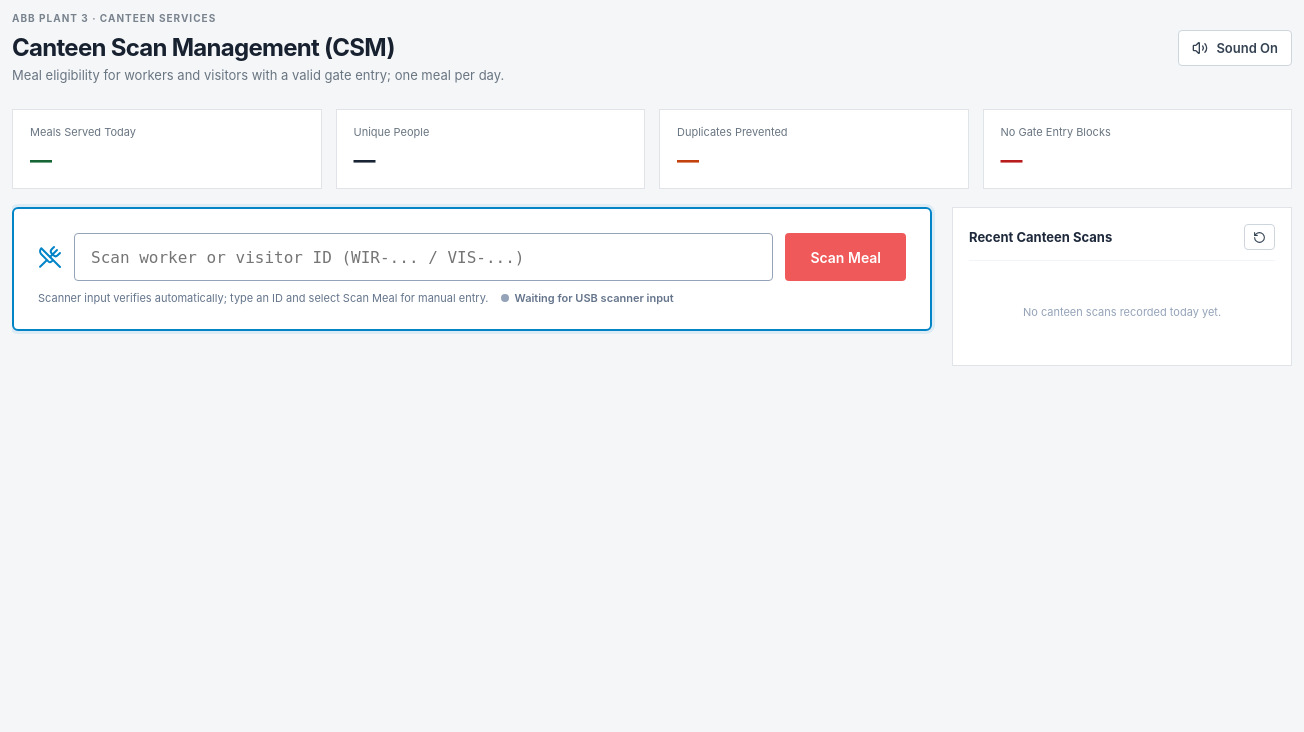
barcode scanner input › submits canteen scans when a keyboard scanner sends Enter
Type "vis-test" into the field with placeholder "Scan worker or visitor ID (WIR-... / VIS-...)". click: coordinates (424, 257)
box: [74, 233, 773, 281]
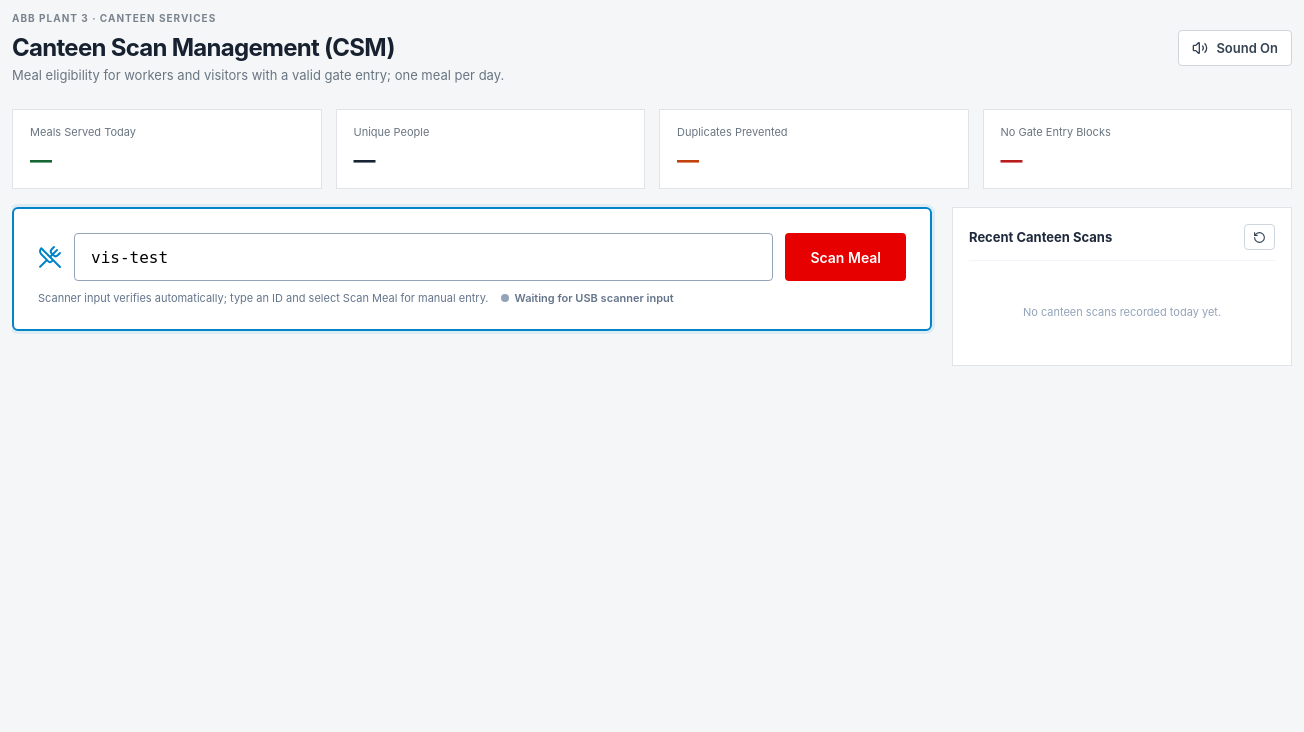
Press Enter in the field with placeholder "Scan worker or visitor ID (WIR-... / VIS-...)", box [74, 233, 773, 281]
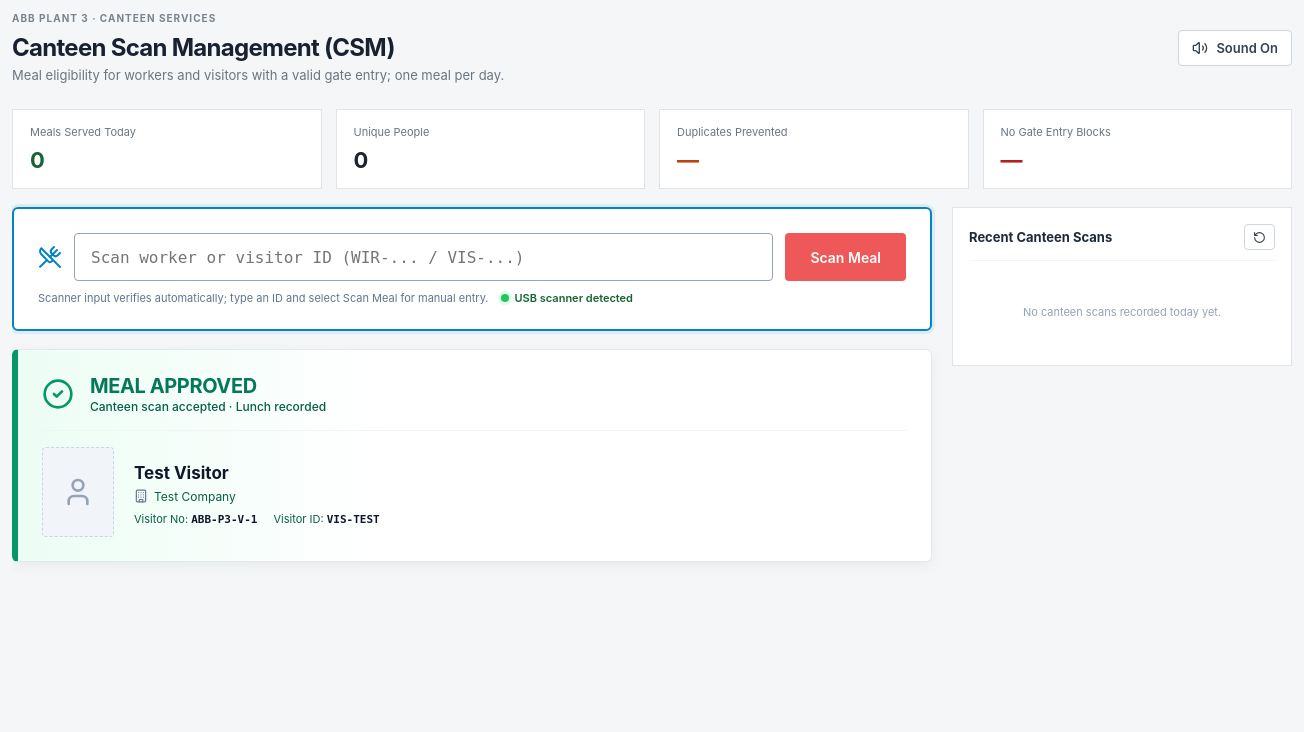
Now the heading "MEAL APPROVED" is shown, box [90, 374, 257, 398]
